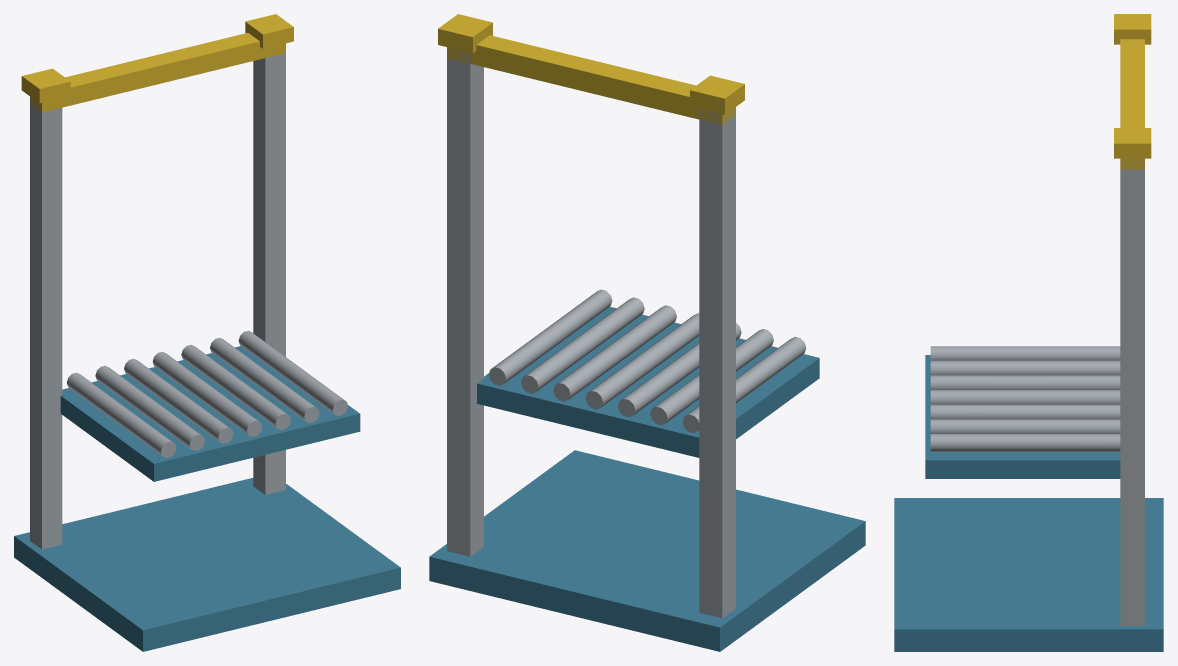
3 views of the same model, side by side, from view 1: azimuth 30°, elevation 25°; view 2: azimuth 150°, elevation 25°; view 3: azimuth 270°, elevation 25° (orthographic). The views are drawn at different scales.
Visible parts, largest first — view 1: base, mast0, deck, mast1, crossbar, roller6, roller3, roller5, roller0, roller1, roller2, roller4 (+2 smaller); view 2: base, mast0, mast1, deck, crossbar, roller6, roller4, roller5, roller3, roller2, roller1, roller0 (+2 smaller); view 3: base, mast1, deck, roller6, roller1, roller4, roller0, roller2, roller3, roller5, crossbar, topCap1 (+1 smaller).
Boxes of the visible parts, x1,y1,x2,y2 form: base: [14, 478, 400, 651]; mast0: [30, 97, 62, 549]; deck: [60, 346, 360, 481]; mast1: [253, 53, 285, 494]; crossbar: [30, 33, 285, 112]; roller6: [238, 330, 347, 415]; roller3: [152, 351, 262, 436]; roller5: [210, 337, 319, 422]; roller0: [66, 372, 176, 457]; roller1: [95, 365, 204, 450]; roller2: [124, 358, 233, 443]; roller4: [181, 344, 290, 429]; base: [429, 450, 865, 651]; mast0: [699, 107, 735, 618]; mast1: [447, 47, 483, 556]; deck: [477, 306, 819, 457]; crossbar: [447, 35, 735, 124]; roller6: [488, 289, 612, 385]; roller4: [553, 305, 676, 401]; roller5: [521, 297, 644, 393]; roller3: [585, 313, 699, 409]; roller2: [618, 323, 741, 417]; roller1: [650, 329, 773, 425]; roller0: [682, 337, 806, 433]; base: [894, 498, 1163, 651]; mast1: [1120, 158, 1144, 625]; deck: [925, 355, 1120, 478]; roller6: [930, 434, 1120, 452]; roller1: [930, 360, 1120, 375]; roller4: [930, 404, 1120, 419]; roller0: [930, 346, 1120, 360]; roller2: [930, 375, 1120, 389]; roller3: [930, 390, 1120, 404]; roller5: [930, 419, 1120, 433]; crossbar: [1120, 39, 1144, 169]; topCap1: [1114, 128, 1151, 158].
Size of the model in its own units: 1.5 by 2.7 by 1.3.
